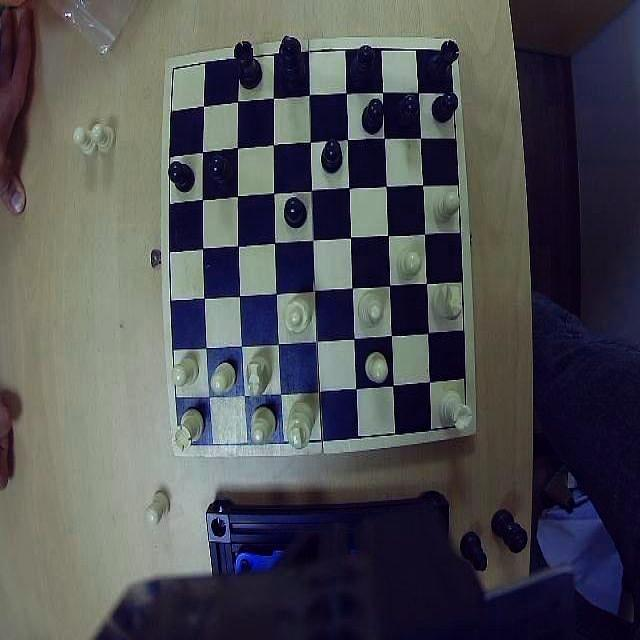chess-table-corners: (441, 406, 472, 434), (174, 426, 204, 452), (428, 41, 456, 68), (165, 54, 188, 80)
